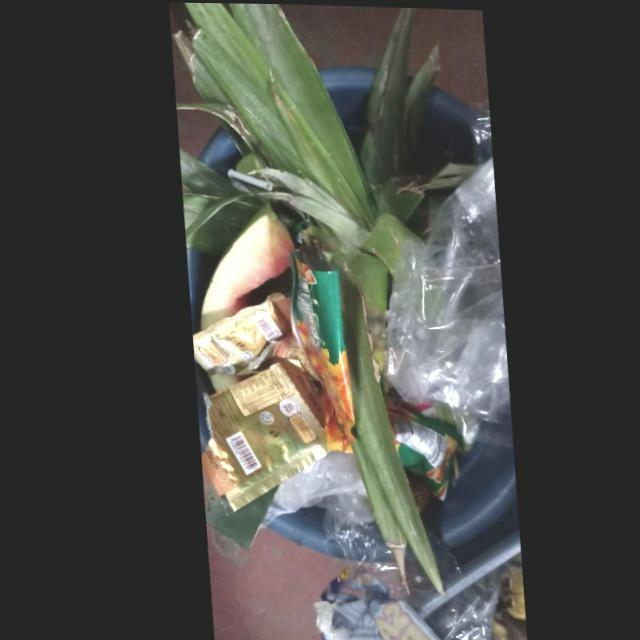food_wrapper: (284, 237, 347, 450), (376, 380, 450, 496)
plastic_bag: (377, 152, 506, 445), (254, 449, 384, 561)
plastic_sachet: (198, 358, 319, 509), (186, 291, 309, 383)
